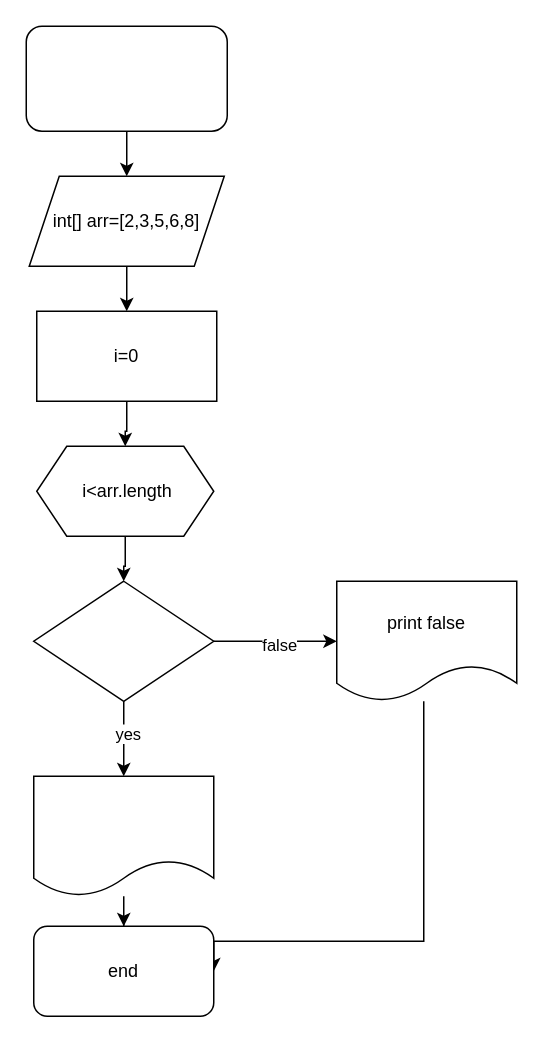
Some shapes in this 543 by 1043 pixel diagram are drawn without their labels. Each missing label, with the box of its shape:
if arr[i]%2==0: (32, 580, 214, 701)
print true: (32, 775, 214, 896)
start: (25, 25, 227, 131)
